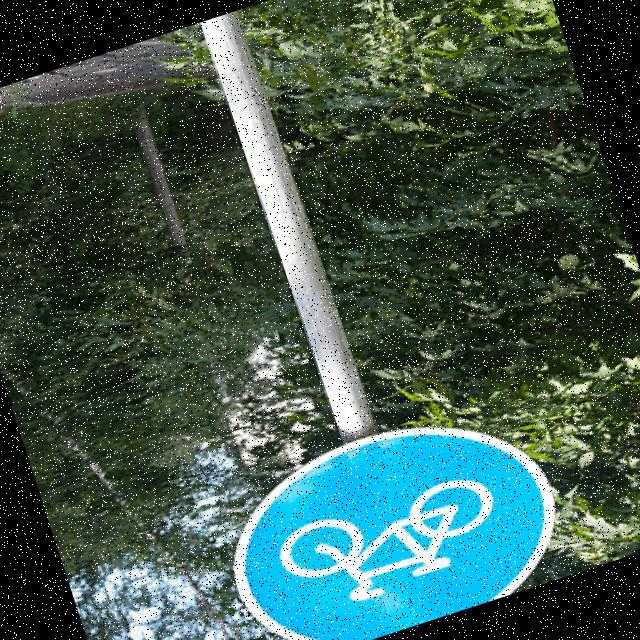bicycle: (181, 382, 598, 640)
